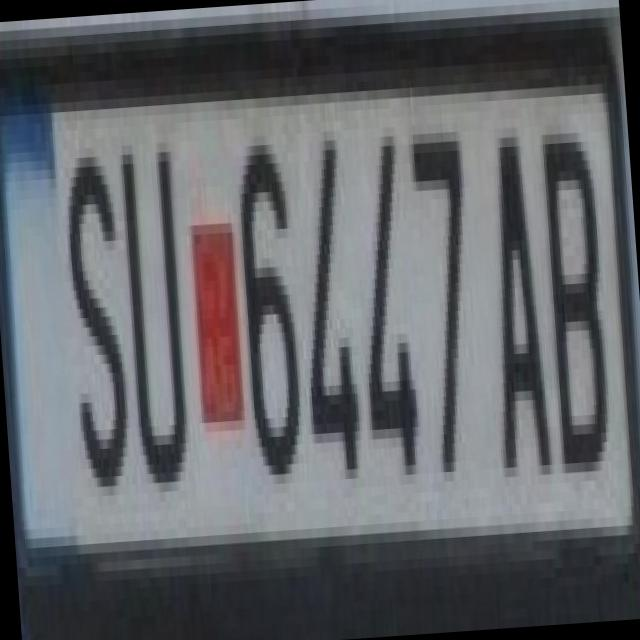4: (281, 101, 373, 482), (337, 98, 423, 478)
6: (220, 105, 312, 486)
7: (397, 94, 486, 474)
A: (460, 89, 553, 478)
B: (524, 103, 616, 474)
S: (46, 118, 136, 498)
U: (105, 113, 196, 494)
